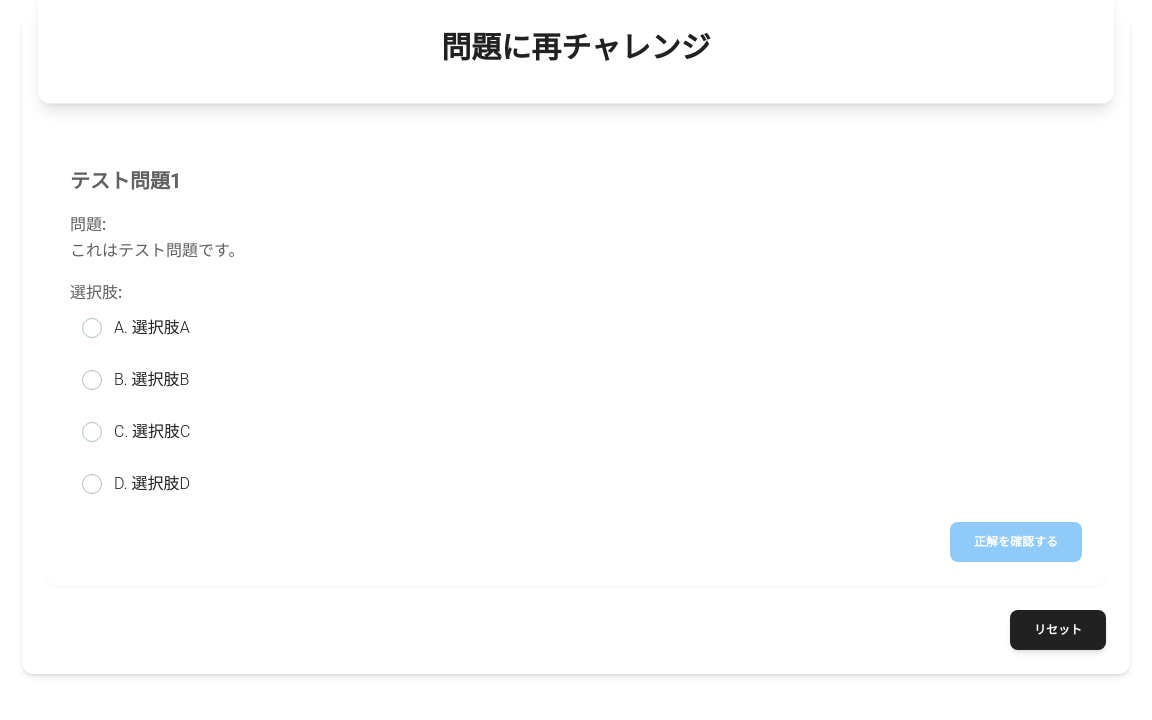
Test: SelectedAnswers › 不正解の場合、適切なメッセージが表示される
The width and height of the screenshot is (1152, 720).
// 選択肢B（不正解）を選択
Click the radio button labelled "B. 選択肢B" at (92, 380), box [82,370,102,390]
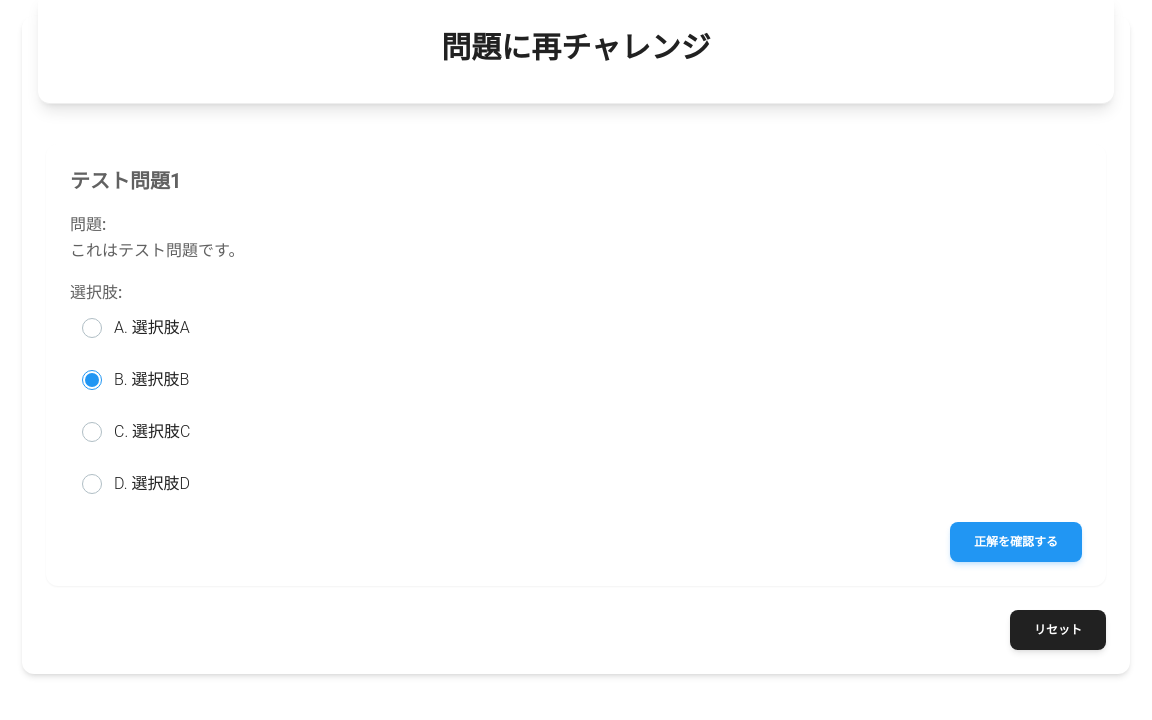
// 正解確認ボタンをクリック
Click the button "正解を確認する" at (1016, 542), box [950,522,1082,562]
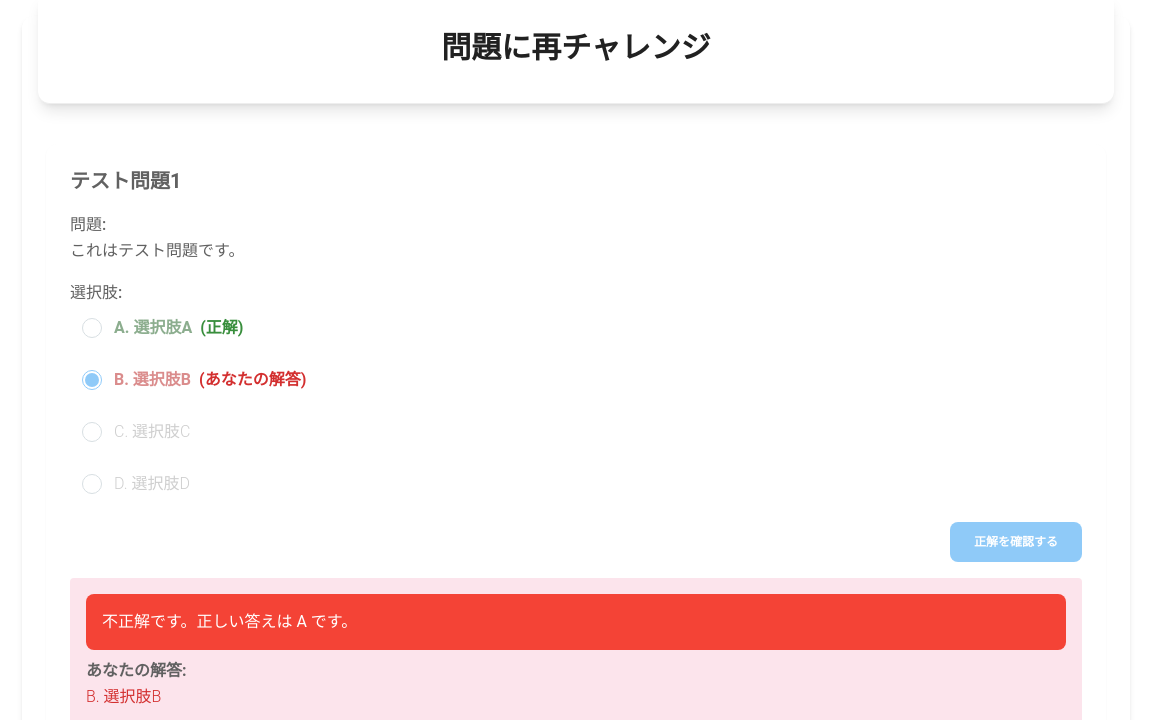
Check: the text "不正解です。正しい答えは A です。" is shown, box [102,610,357,634]
